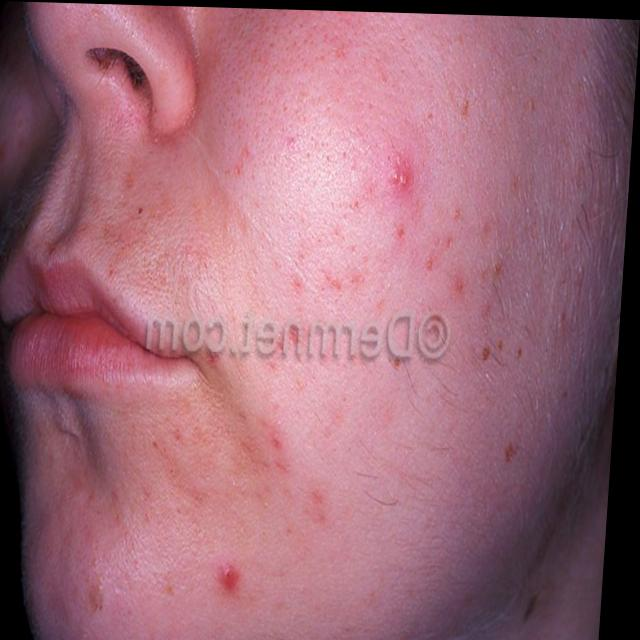blackheads: (390, 148, 417, 199), (503, 427, 527, 470), (225, 559, 250, 597), (290, 265, 311, 296), (478, 338, 501, 364), (393, 211, 411, 243), (423, 243, 440, 275), (455, 268, 471, 297), (451, 196, 464, 227), (463, 95, 468, 110)
